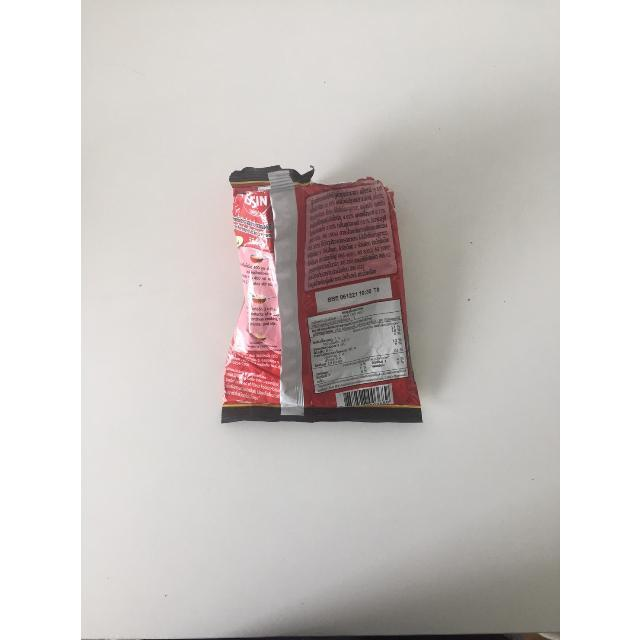Paquete de plastico: (222, 170, 422, 427)
